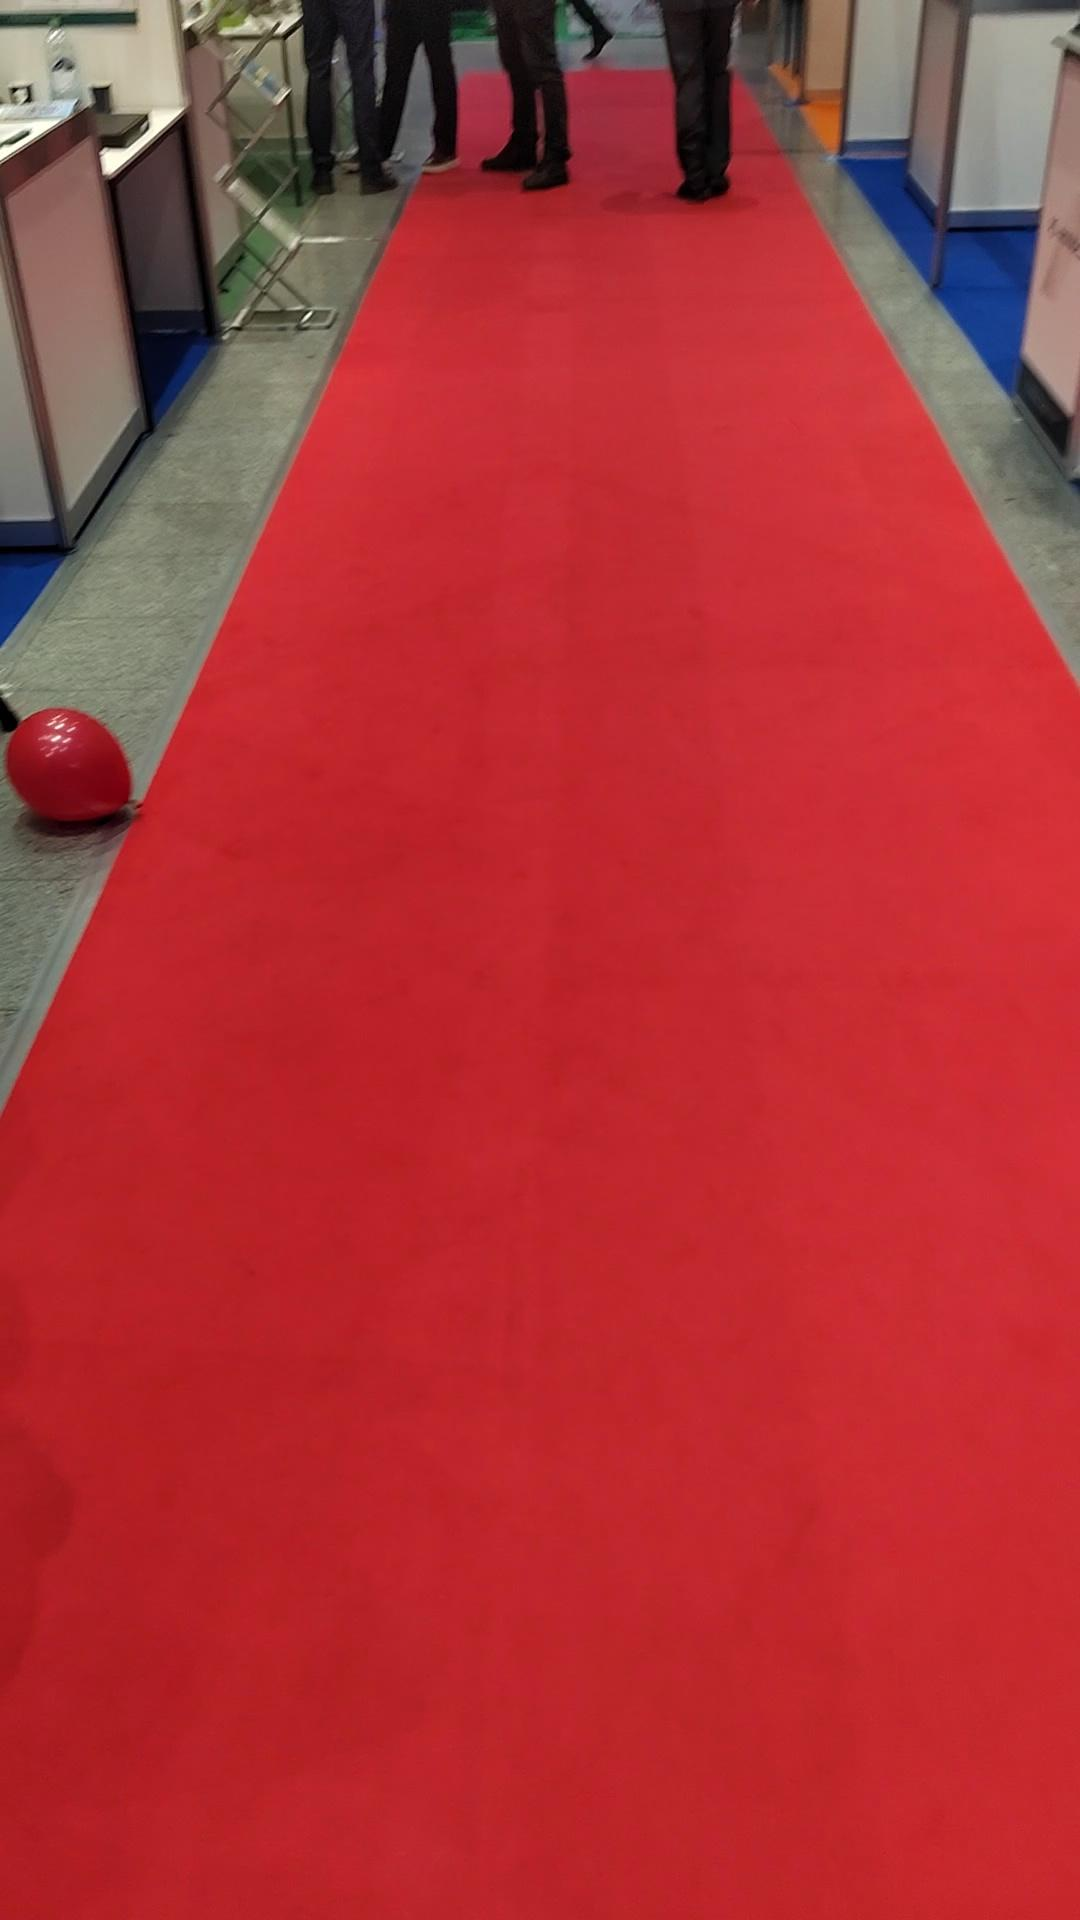red: (0, 704, 150, 839)
